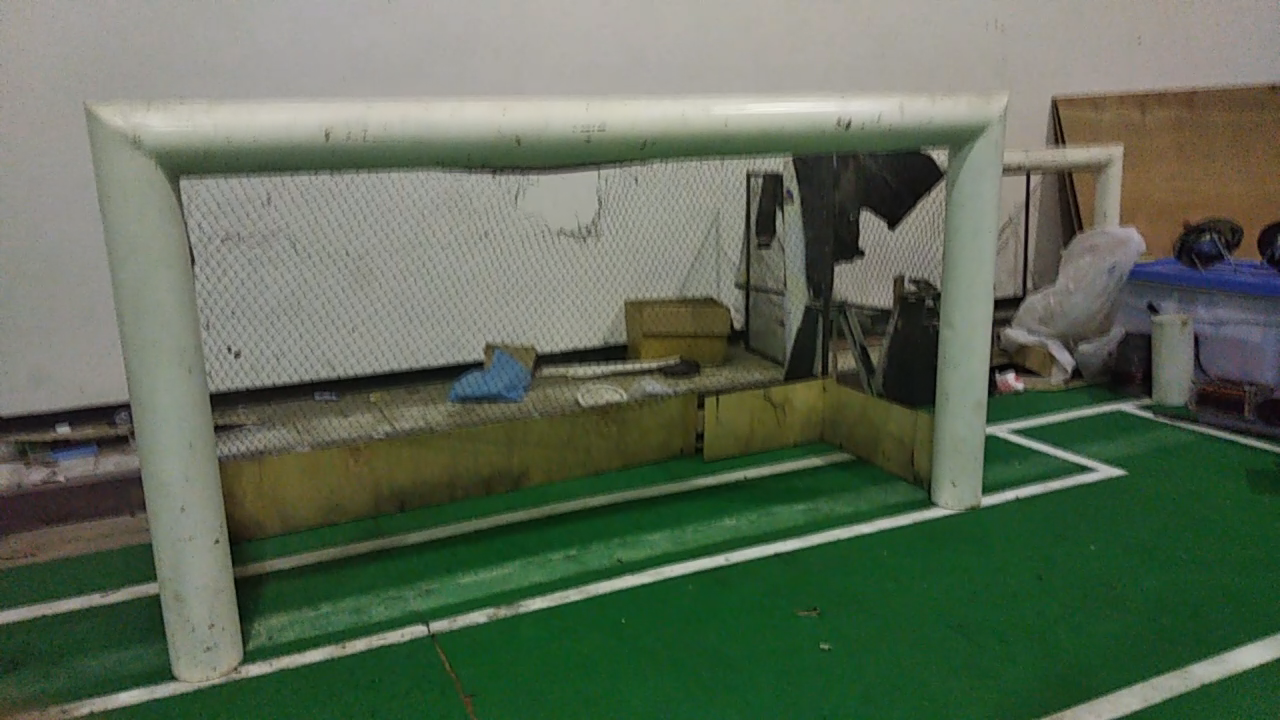gawang: (72, 83, 1028, 693)
